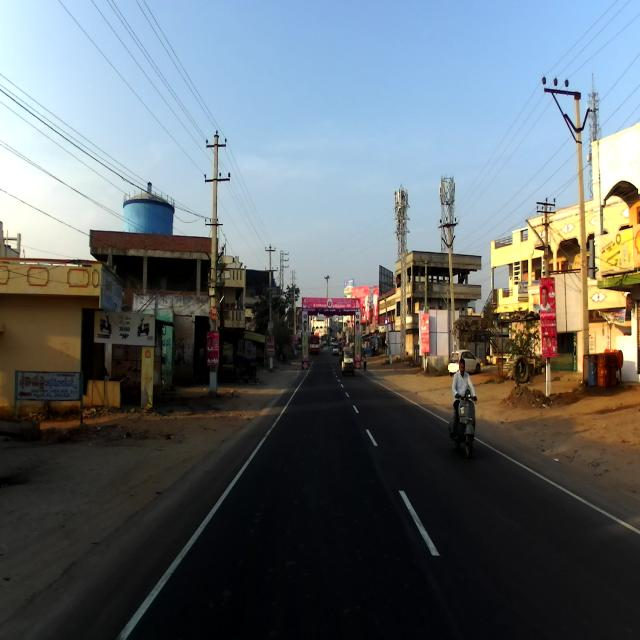motorcycle ahead at: (196, 123, 231, 405), (444, 384, 482, 471)
